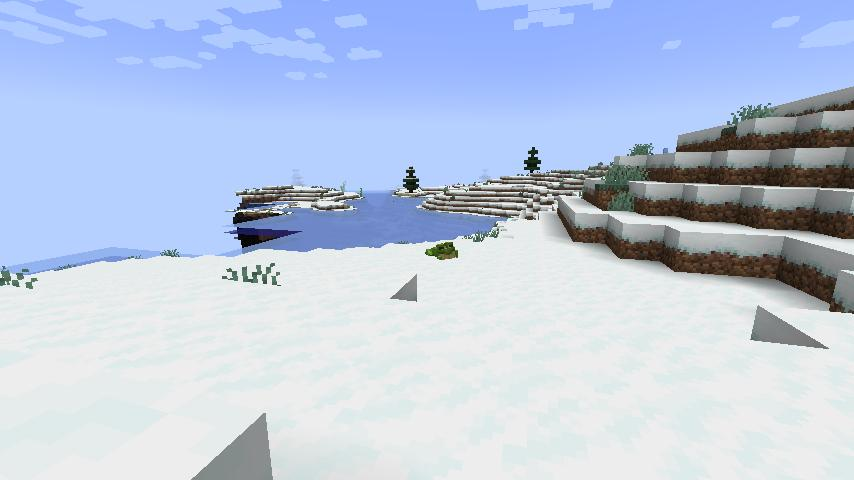frog: (423, 238, 463, 266)
